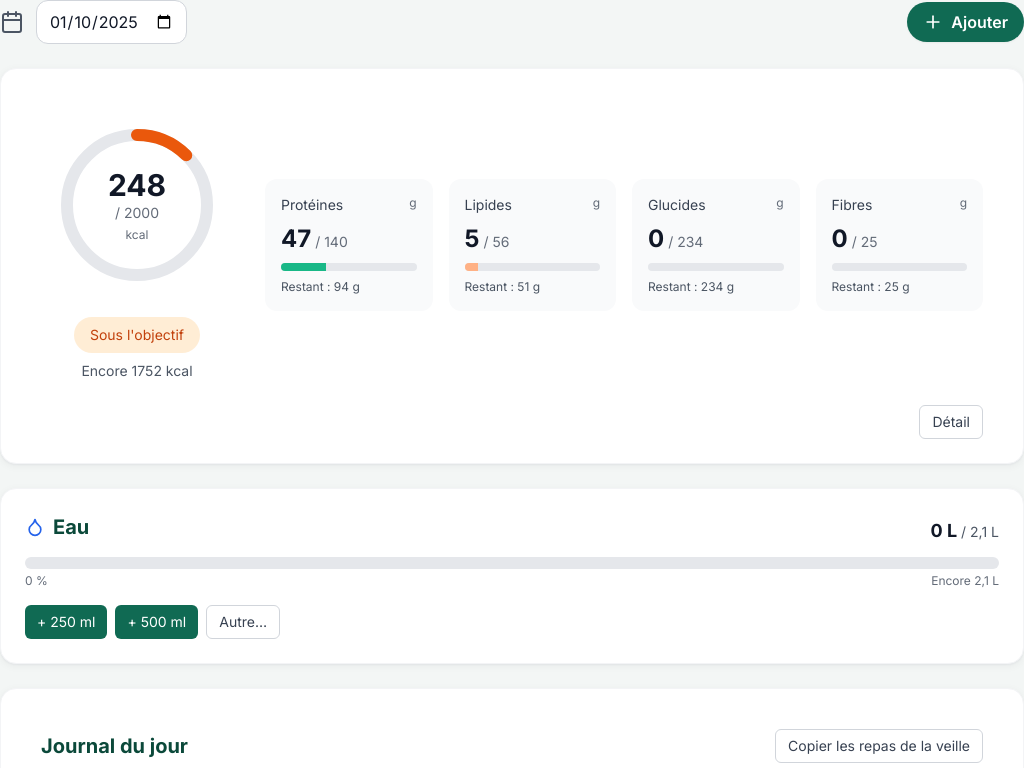
Test: Dashboard : détail par repas et journal défilant › rend le focus au bouton « Détail » à la fermeture
This screenshot has width=1024, height=768.
Click the button "Détail" at (951, 422), box left=919, top=405, right=983, bottom=439
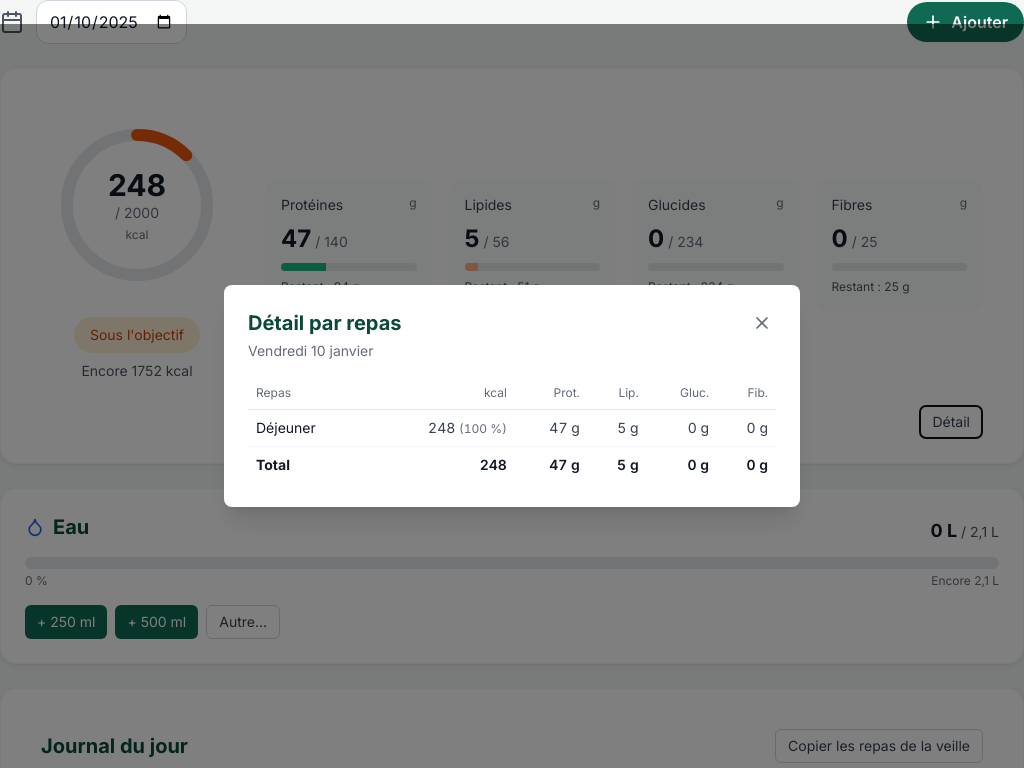
Expected: the dialog "Détail par repas" is shown, left=224, top=285, right=800, bottom=507
Press Escape
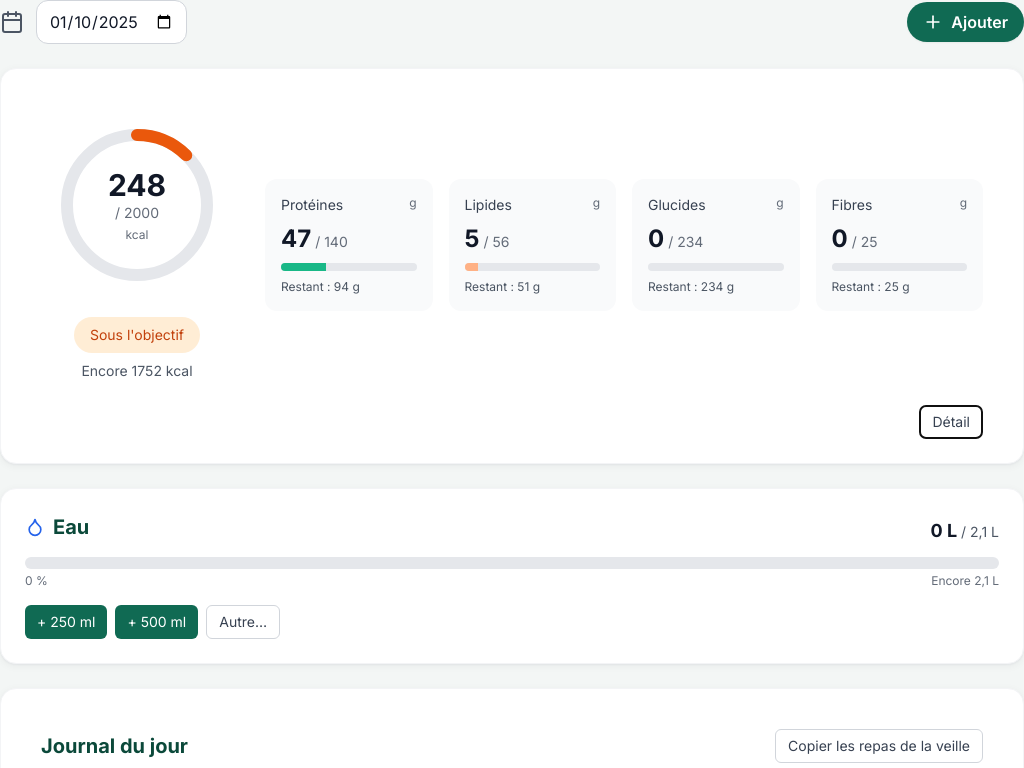
Expected: the dialog is gone
